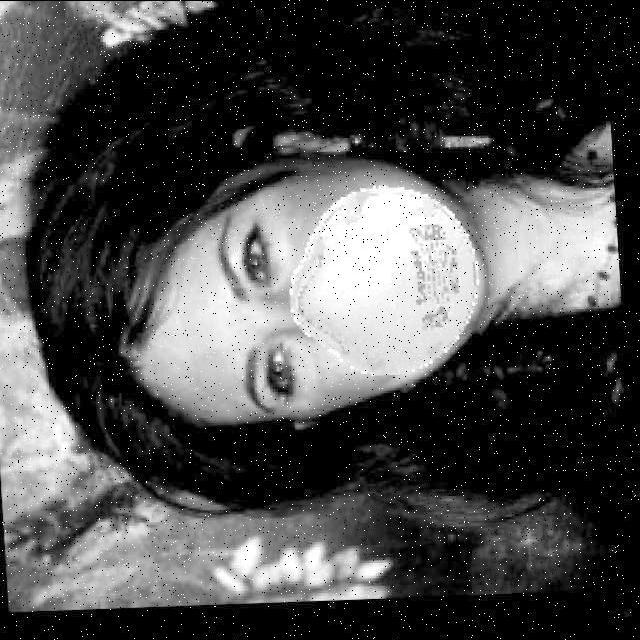mask: (302, 182, 482, 380)
no_gloves: (58, 63, 224, 431)
